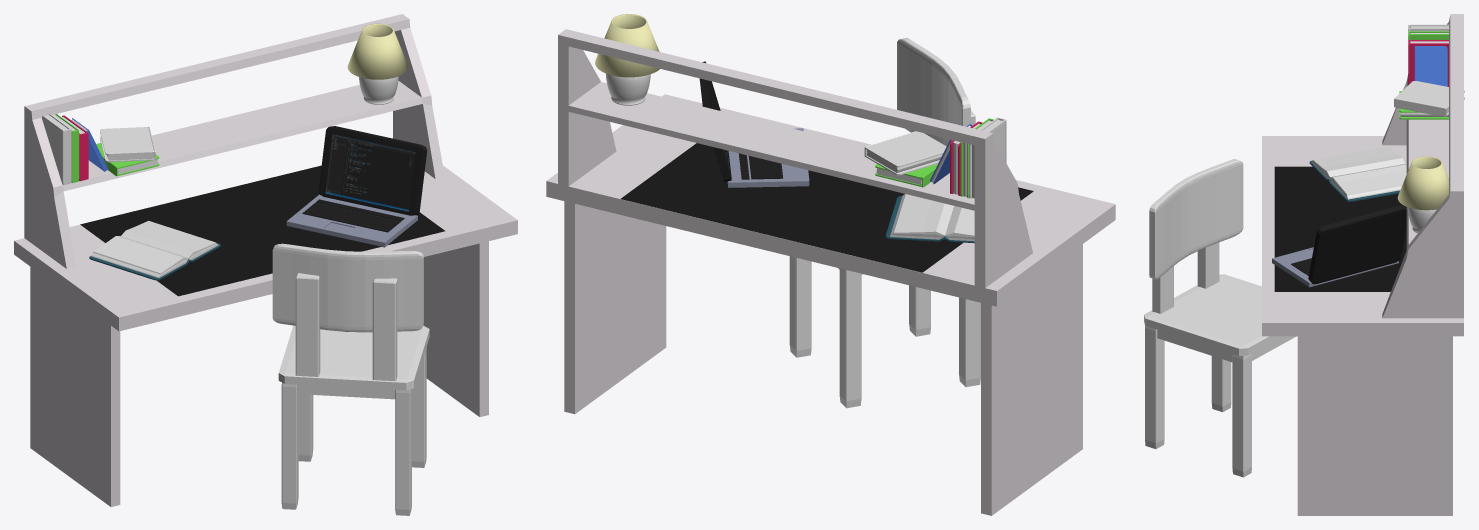
Rendered from desk.glb.
3 renders of one model, left to right at view 1: azimuth 30°, elevation 25°; view 2: azimuth 150°, elevation 25°; view 3: azimuth 270°, elevation 25°, orthographic. The views are drawn at different scales.
Visible parts, largest first — view 1: desk, chair, Plane, Cube.005, Cube.006, Cylinder, Cube.002, Cube.001, Cube.013, Cube.008, Cube.003, Sphere (+3 smaller); view 2: desk, Plane, chair, Cube.006, Cube.013, Cylinder, Cube.001, Sphere, Cube.008, Cube.010, Cube.002, Cube.003 (+1 smaller); view 3: desk, chair, Plane, Cube.002, Cube.006, Cylinder, Cube.013, Cube.012, Cube.001, Cube.011, Sphere, Cube.010.
Part boxes in pixels (x1=…): desk: x1=14, y1=14, x2=517, y2=506; chair: x1=272, y1=243, x2=429, y2=515; Plane: x1=80, y1=165, x2=445, y2=296; Cube.005: x1=325, y1=134, x2=415, y2=211; Cube.006: x1=89, y1=221, x2=220, y2=280; Cylinder: x1=347, y1=23, x2=408, y2=79; Cube.002: x1=318, y1=126, x2=427, y2=215; Cube.001: x1=286, y1=194, x2=417, y2=247; Cube.013: x1=100, y1=127, x2=155, y2=162; Cube.008: x1=42, y1=114, x2=71, y2=185; Cube.003: x1=302, y1=202, x2=400, y2=232; Sphere: x1=359, y1=76, x2=398, y2=104; desk: x1=546, y1=29, x2=1115, y2=515; Plane: x1=621, y1=143, x2=1033, y2=272; chair: x1=789, y1=37, x2=980, y2=408; Cube.006: x1=886, y1=194, x2=974, y2=243; Cube.013: x1=864, y1=131, x2=946, y2=175; Cylinder: x1=595, y1=14, x2=659, y2=77; Cube.001: x1=727, y1=128, x2=809, y2=187; Sphere: x1=605, y1=73, x2=650, y2=105; Cube.008: x1=969, y1=117, x2=1006, y2=198; Cube.010: x1=875, y1=164, x2=937, y2=187; Cube.002: x1=699, y1=61, x2=731, y2=182; Cube.003: x1=748, y1=156, x2=783, y2=179; desk: x1=1262, y1=14, x2=1463, y2=515; chair: x1=1144, y1=159, x2=1296, y2=477; Plane: x1=1274, y1=166, x2=1406, y2=291; Cube.002: x1=1308, y1=205, x2=1406, y2=284; Cube.006: x1=1309, y1=146, x2=1406, y2=201; Cylinder: x1=1397, y1=156, x2=1448, y2=210; Cube.013: x1=1394, y1=81, x2=1464, y2=116; Cube.012: x1=1414, y1=46, x2=1447, y2=86; Cube.001: x1=1272, y1=247, x2=1398, y2=287; Cube.011: x1=1408, y1=40, x2=1448, y2=86; Sphere: x1=1407, y1=207, x2=1436, y2=233; Cube.010: x1=1399, y1=90, x2=1448, y2=119.
Bounding box in the file's own units: 4.69 × 3.93 × 3.4.
Materials: 14 (1 with a texture image).
